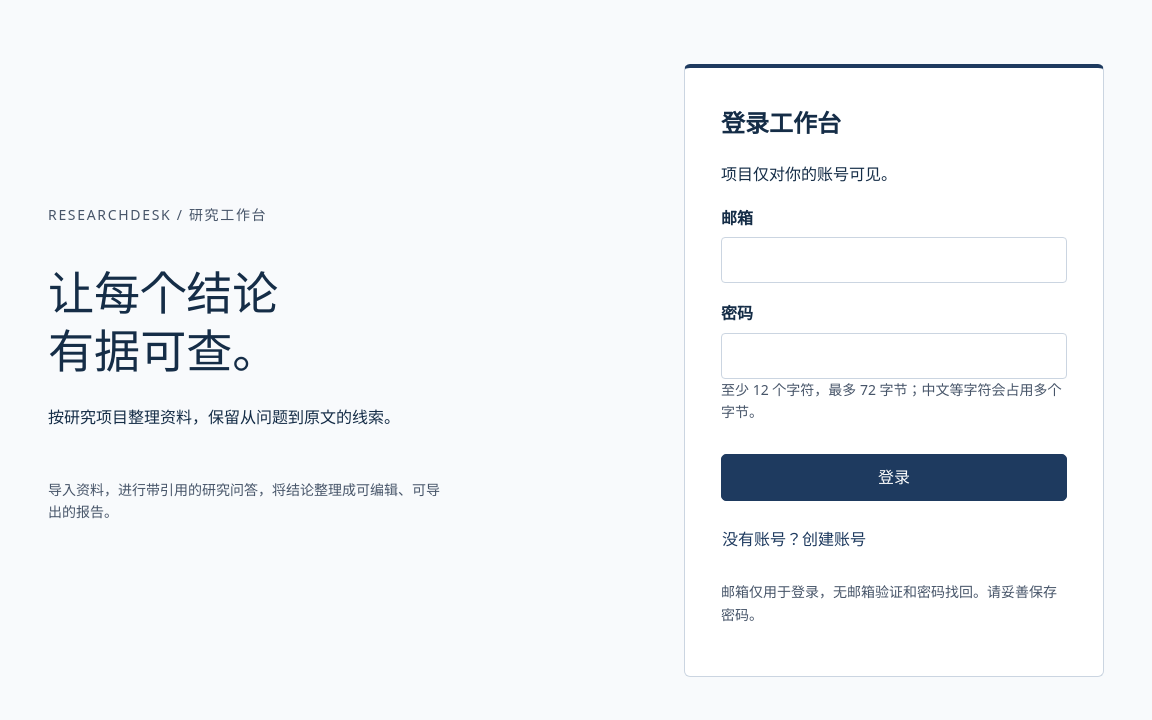
auth transitions discard delayed session responses › does not erase a new login when an earlier refresh returns 401
Expected: the button "登录" is shown, [721,454,1067,502]
In the field labelled "邮箱": [894, 260] box [721,238,1067,284], type "new@example.test"
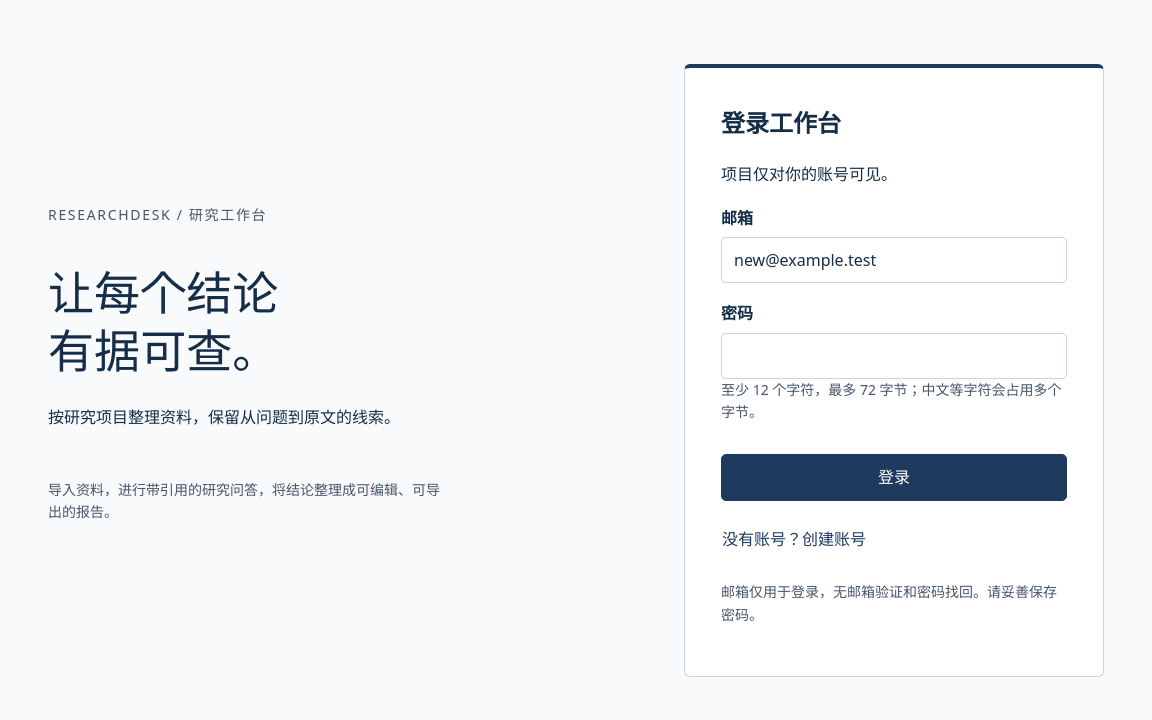
In the password field labelled "密码": [894, 356] box [721,333,1067,379], type "CorrectHorseBattery9!"
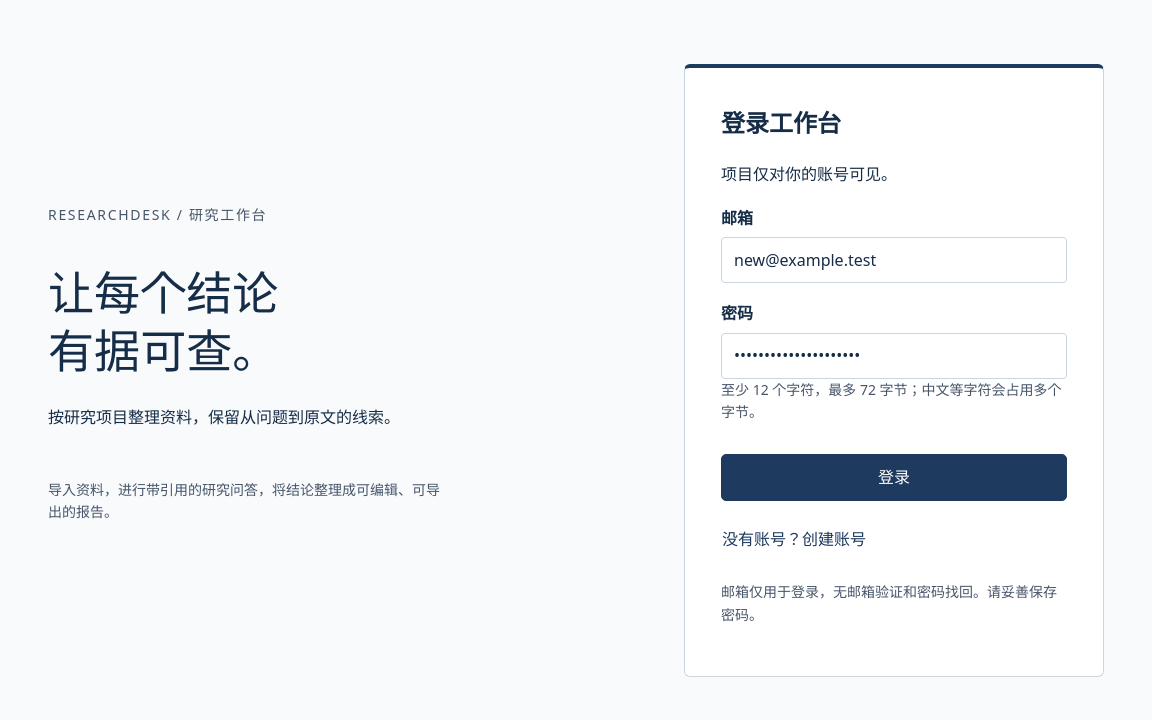
Click the button "登录": [894, 478] box [721,454,1067,502]
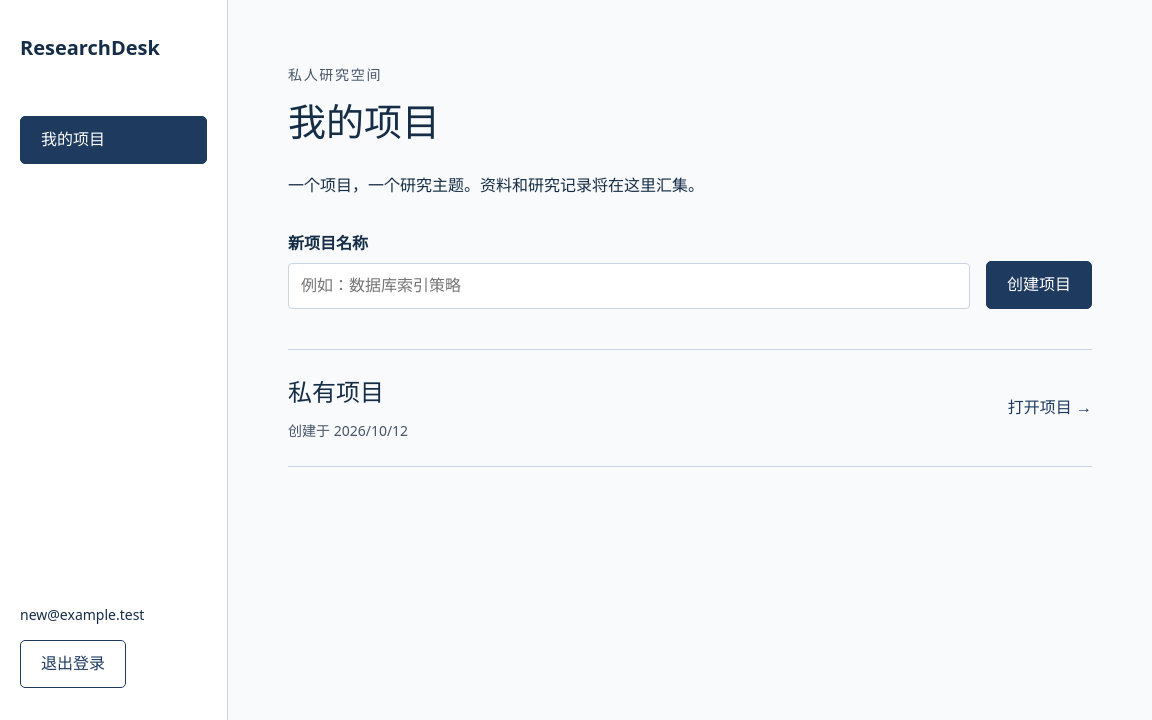
Now the text "new@example.test" is shown, box [20,605,144,624]
